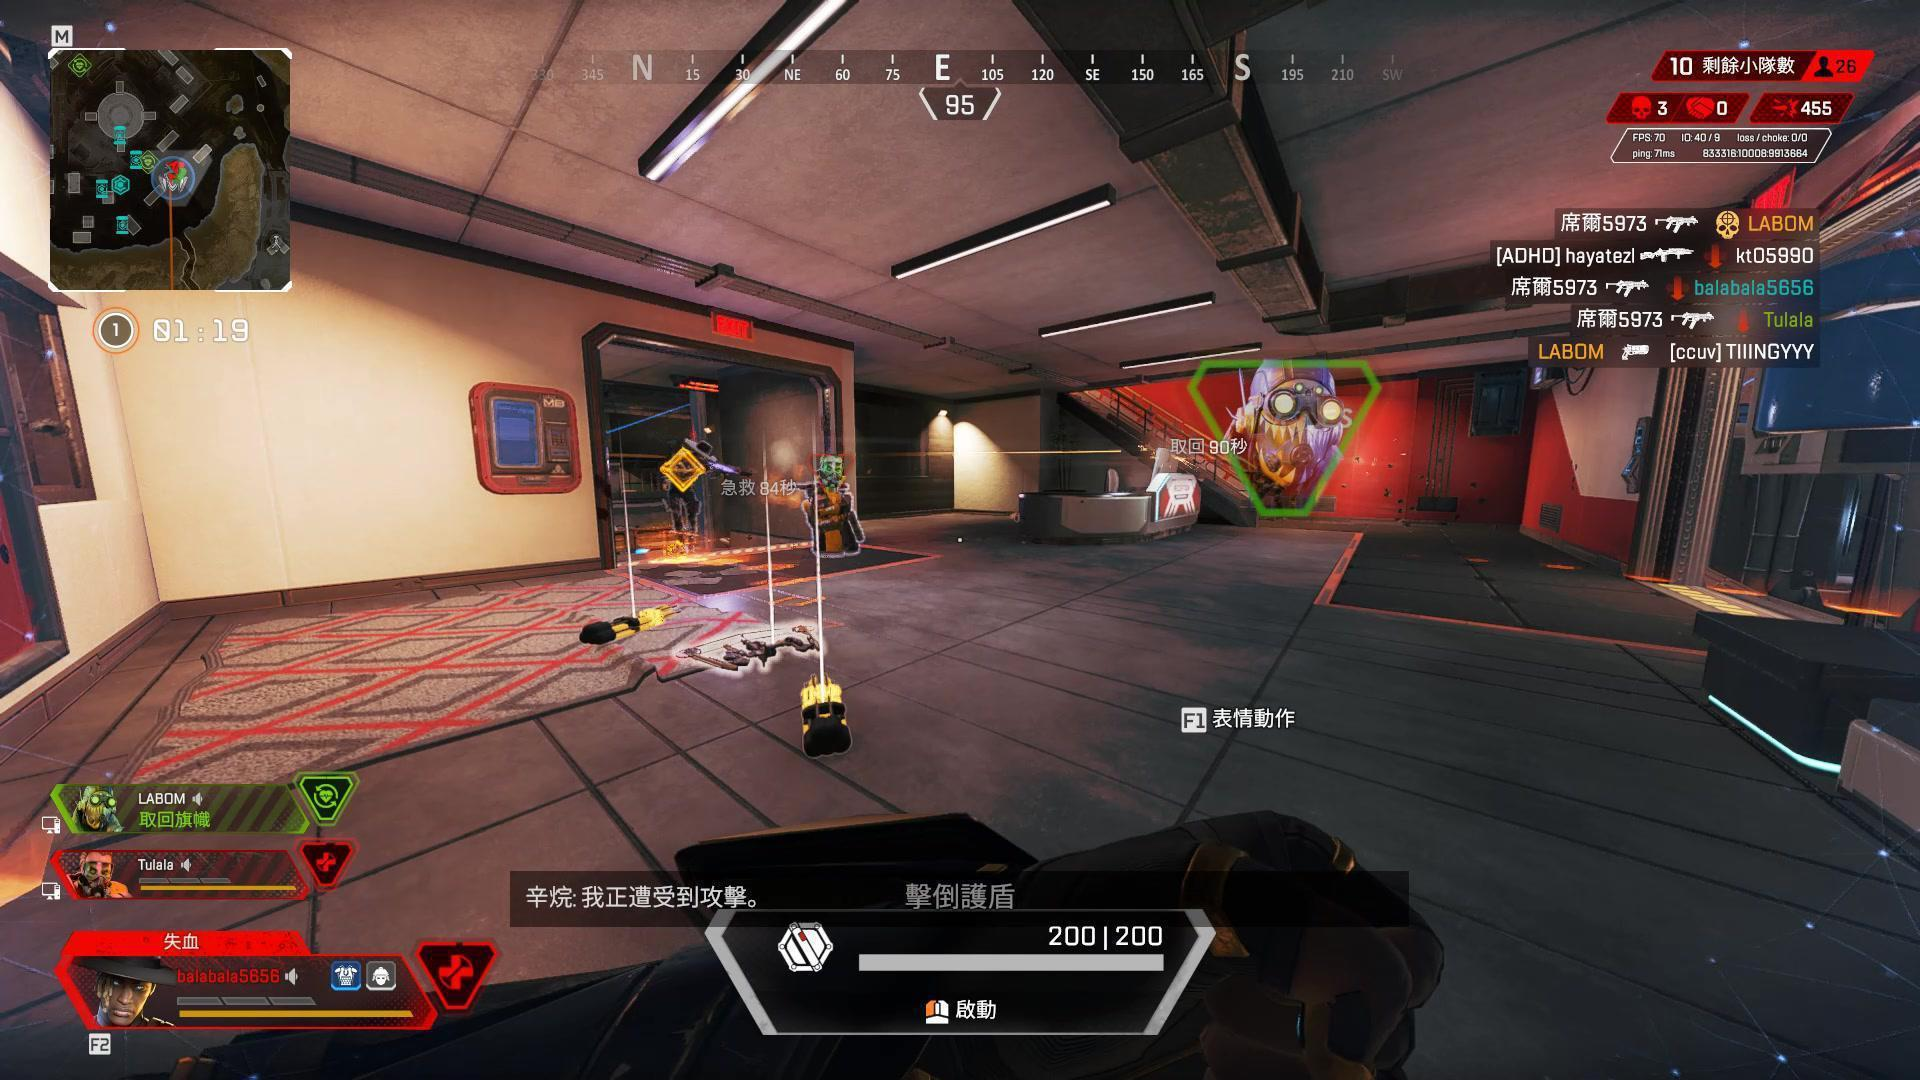avatar: (665, 437, 715, 549)
object: (658, 443, 707, 496)
